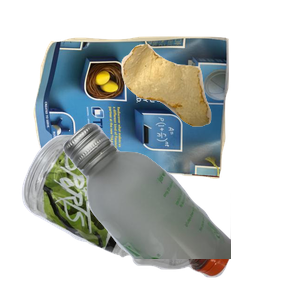glass: (60, 120, 300, 300)
paper: (31, 34, 252, 205)
plastic: (19, 132, 242, 300)
trash: (119, 42, 300, 161)
